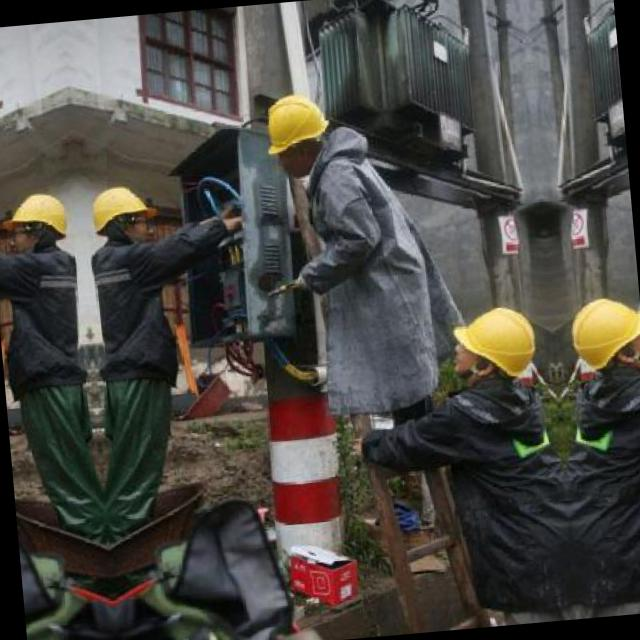helmet: (440, 297, 544, 398), (254, 82, 336, 192), (560, 289, 640, 389), (79, 176, 163, 249), (0, 183, 76, 256)
